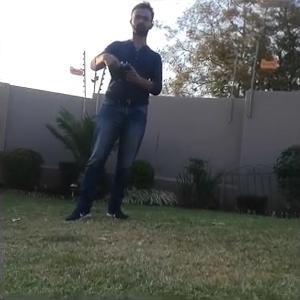follow: (59, 0, 163, 226)
